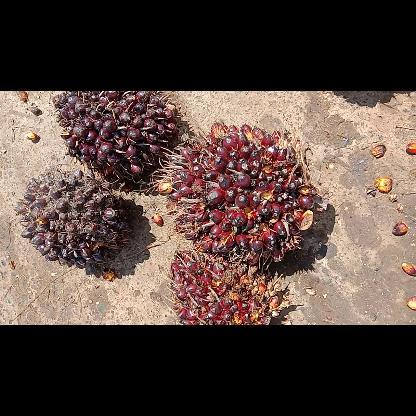Kurang masak: (148, 120, 324, 268), (52, 91, 180, 191), (16, 170, 134, 276), (164, 249, 290, 324)
